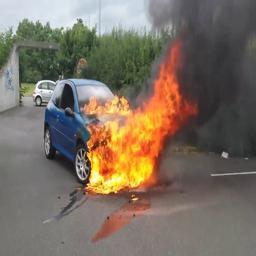fire: (82, 37, 196, 193)
